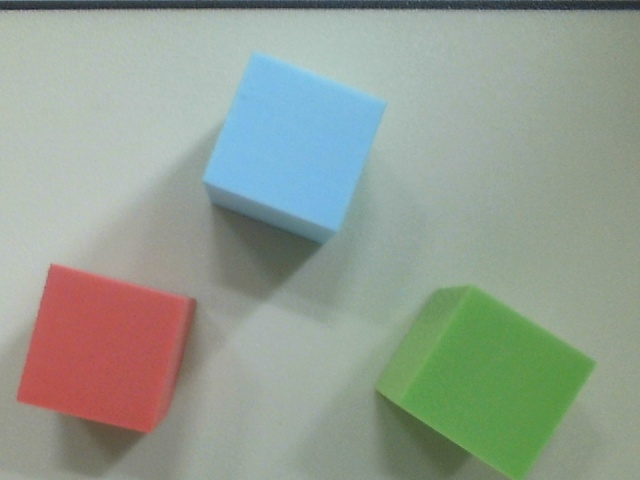greencube: (372, 282, 600, 480)
